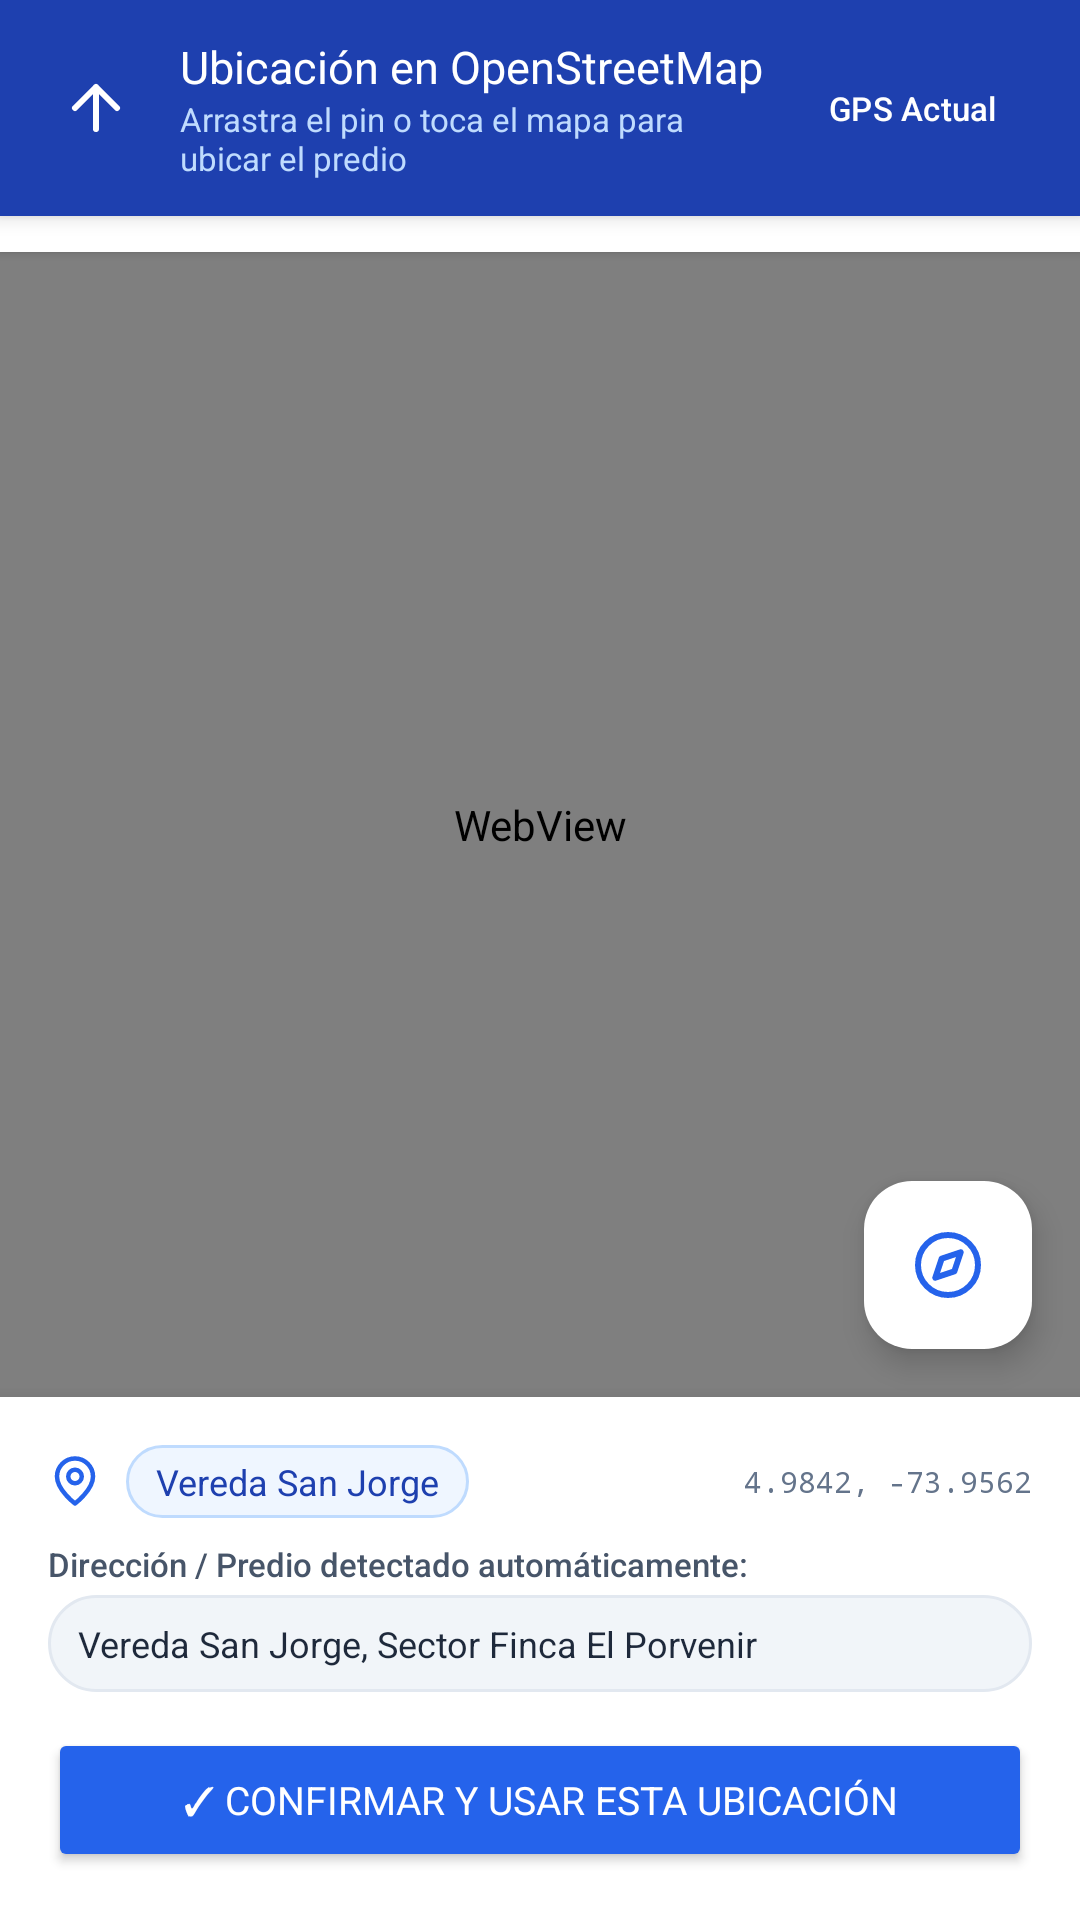

Screen size 1080w x 1920h. Icon name, then its box in pixels as (x1, y1, x2, y2):
Centrar en mi ubicación GPS: (864, 1181, 1032, 1349)
map pin: (54, 1456, 96, 1506)
Regresar: (72, 84, 120, 132)
